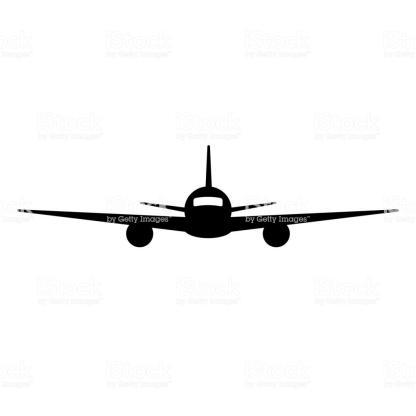CIV_Plane: (14, 142, 399, 258)
